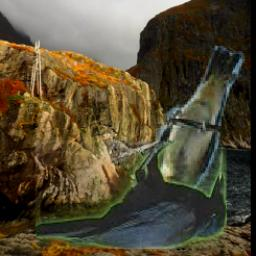Crow: (34, 140, 226, 249)
Swallow: (155, 47, 246, 214)
